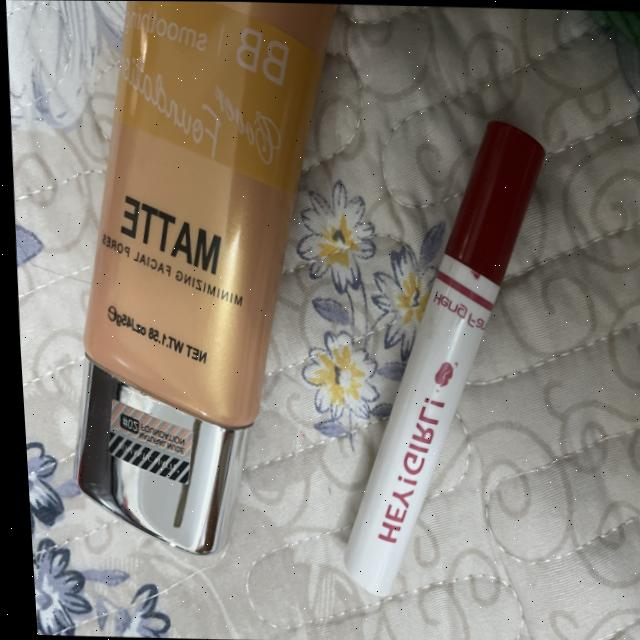bb cream: (23, 0, 330, 576)
lip stick: (305, 108, 585, 630)
